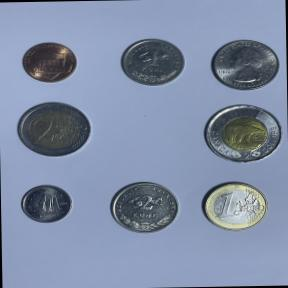1 Euro: (199, 179, 272, 234)
2 Euro: (12, 97, 96, 162)
Canda-10cent-: (16, 180, 78, 226)
Canda-2Dollar-: (196, 100, 286, 168)
Croatia-2Kune-: (107, 178, 182, 238)
US-1cent-: (16, 37, 83, 86)
US-25cent-: (204, 36, 284, 94)
